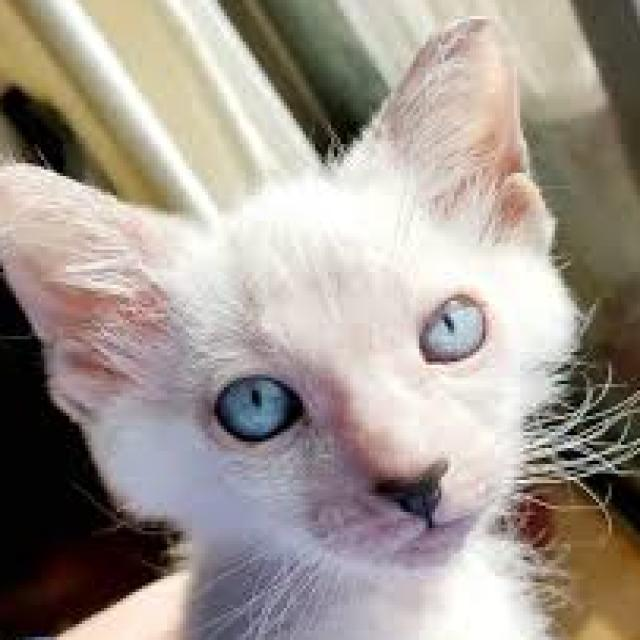Lykoi: (0, 9, 592, 640)
